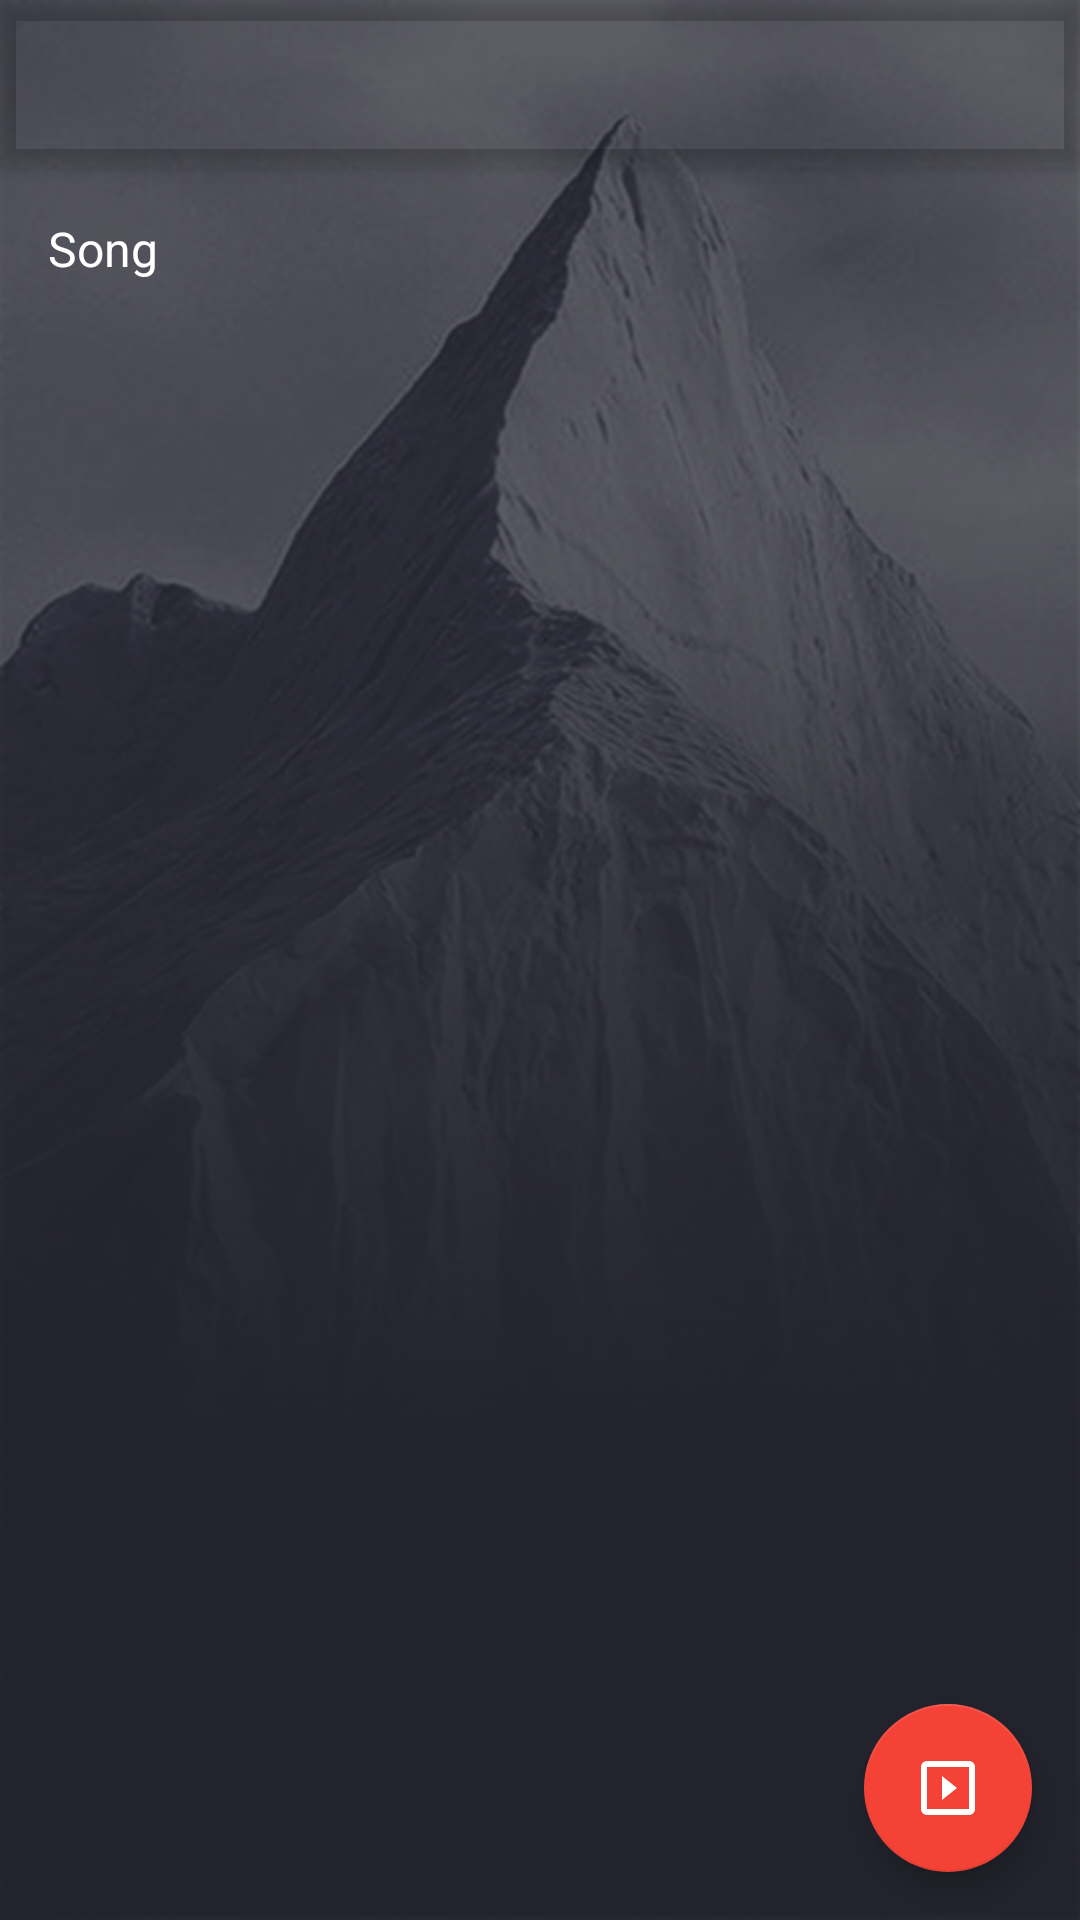

Named icons in this screenshot (1080px×1920px) and their bounding boxes, bbox=[x1, y1, x2, y2]:
slideshow: bbox=[864, 1704, 1032, 1872]
